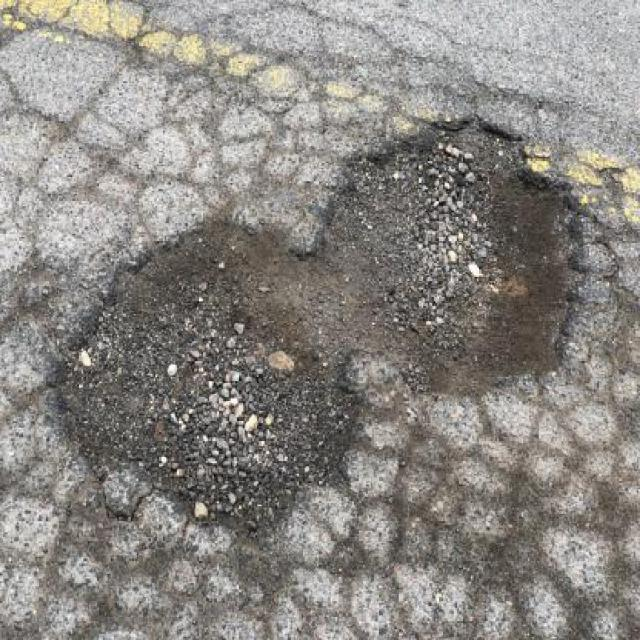pothole: (45, 211, 354, 547), (317, 108, 590, 421)
